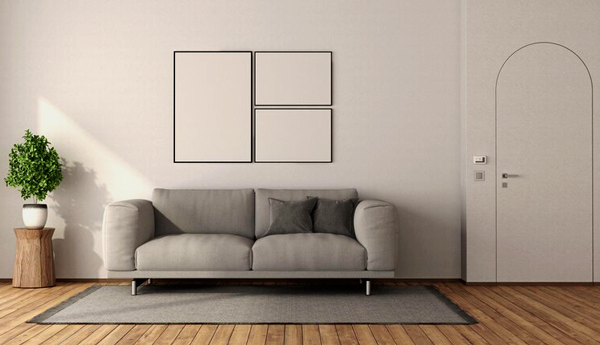side table: (12, 226, 57, 290)
small plant: (4, 128, 64, 229)
sofa: (100, 186, 401, 297)
wall art: (170, 49, 253, 164), (252, 49, 333, 107), (253, 107, 334, 165)
